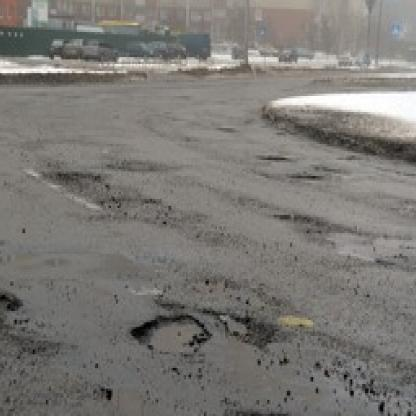pothole: (131, 313, 211, 361), (0, 290, 17, 320)
